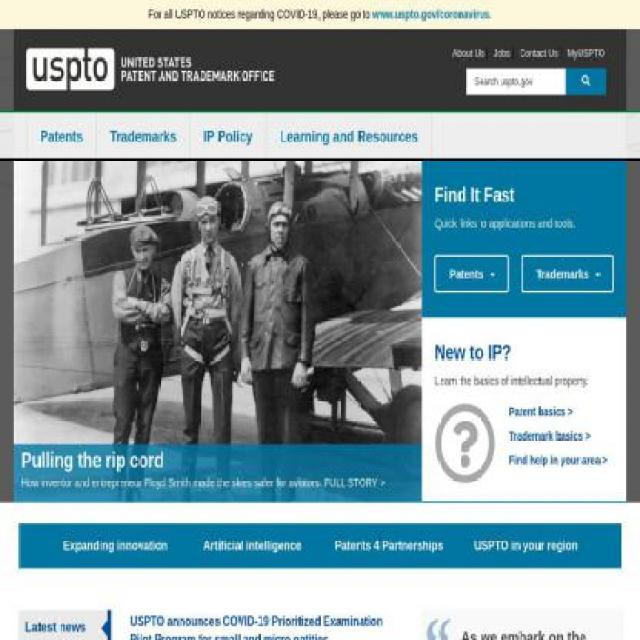button: (26, 42, 274, 95), (266, 113, 431, 161), (96, 113, 190, 161), (191, 113, 266, 161), (520, 255, 614, 292), (27, 113, 96, 161), (434, 255, 509, 292), (19, 610, 110, 639)
field: (465, 68, 567, 95)
